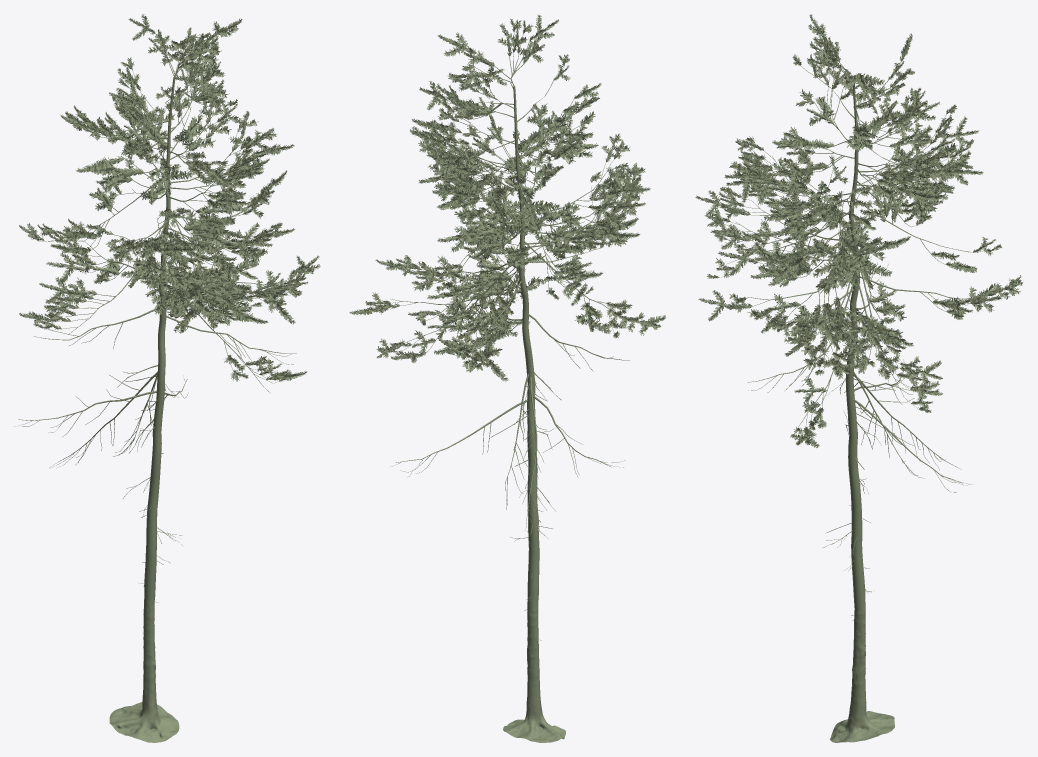
The model's file is quarry-north-fir-2.glb.
3 renders of one model, left to right at view 1: azimuth 30°, elevation 25°; view 2: azimuth 150°, elevation 25°; view 3: azimuth 270°, elevation 25°, orthographic. The views are drawn at different scales.
Parts seen in each view (by area): view 1: NorthFir_2_far_Needles, NorthFir_2_near_Needles, NorthFir_2_far_Wood, NorthFir_2_near_Trunk, NorthFir_2_far_Trunk; view 2: NorthFir_2_far_Needles, NorthFir_2_near_Needles, NorthFir_2_far_Wood, NorthFir_2_far_Trunk, NorthFir_2_near_Trunk; view 3: NorthFir_2_far_Needles, NorthFir_2_near_Needles, NorthFir_2_far_Wood, NorthFir_2_far_Trunk, NorthFir_2_near_Trunk.
Part boxes in pixels (left/top/right/bottom): NorthFir_2_far_Needles: left=19, top=14, right=320, bottom=381; NorthFir_2_near_Needles: left=19, top=14, right=319, bottom=381; NorthFir_2_far_Wood: left=14, top=34, right=296, bottom=633; NorthFir_2_near_Trunk: left=109, top=77, right=179, bottom=742; NorthFir_2_far_Trunk: left=109, top=77, right=179, bottom=742; NorthFir_2_far_Needles: left=349, top=15, right=665, bottom=380; NorthFir_2_near_Needles: left=349, top=14, right=665, bottom=381; NorthFir_2_far_Wood: left=381, top=32, right=651, bottom=640; NorthFir_2_far_Trunk: left=503, top=87, right=565, bottom=742; NorthFir_2_near_Trunk: left=503, top=86, right=565, bottom=742; NorthFir_2_far_Needles: left=695, top=14, right=1022, bottom=447; NorthFir_2_near_Needles: left=696, top=14, right=1022, bottom=447; NorthFir_2_far_Wood: left=719, top=48, right=1004, bottom=631; NorthFir_2_far_Trunk: left=830, top=86, right=894, bottom=742; NorthFir_2_near_Trunk: left=830, top=86, right=894, bottom=742.
Bounding box in the file's own units: 0.4344 × 1 × 0.411.
